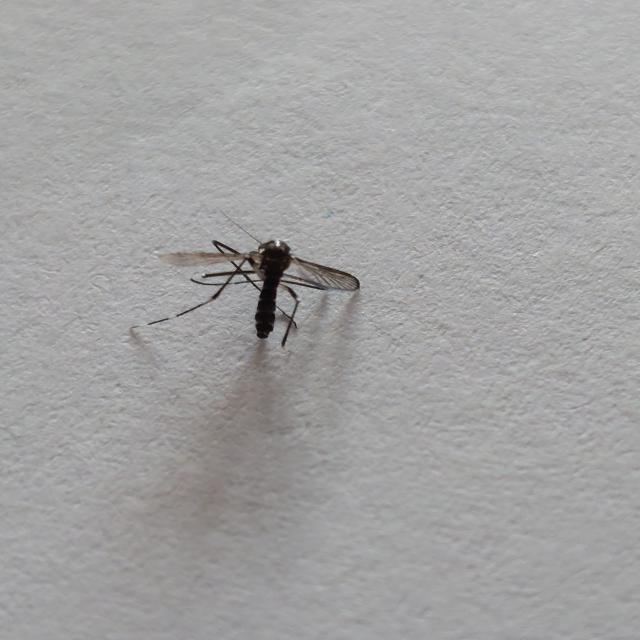albopictus: (146, 205, 358, 348)
